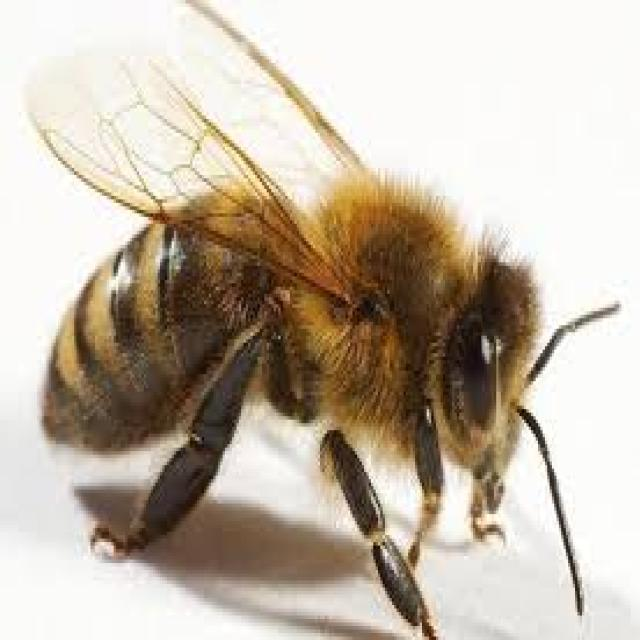Bees: (26, 0, 622, 637)
